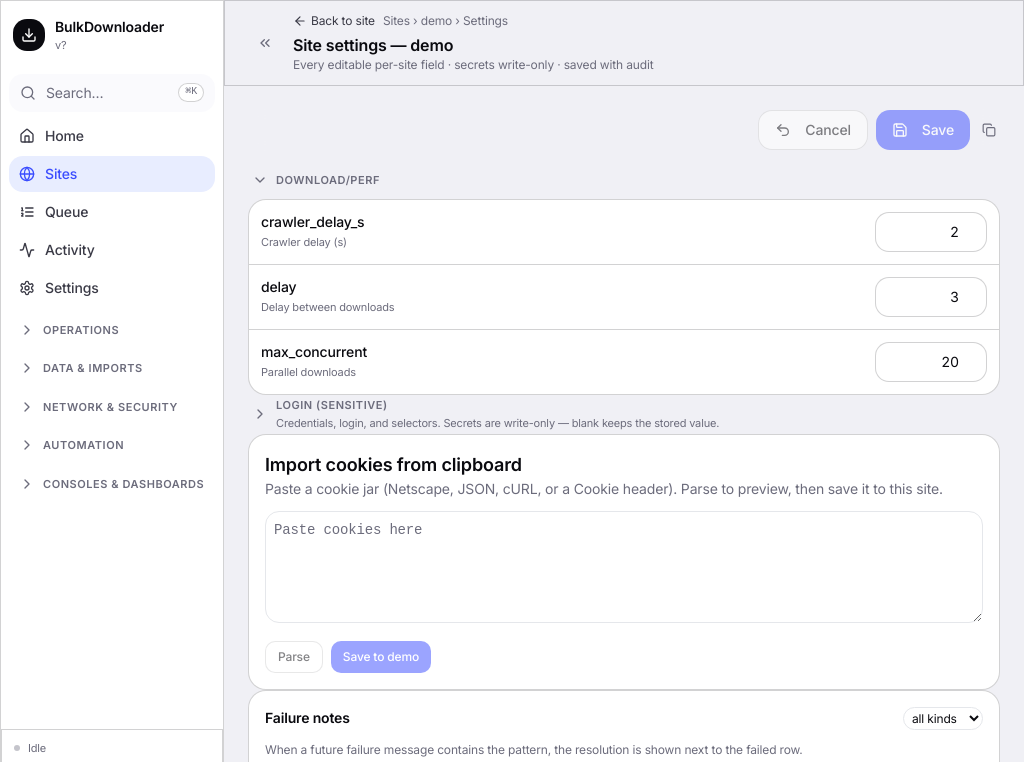
Test: SiteSettings keeps edits typed during a save (dsf F3) › control: a cleared (blank, never sent) password box does not outlive the save
Step 1. Click the button "login (sensitive)" → x=624, y=414, box [248,394,1000,434]
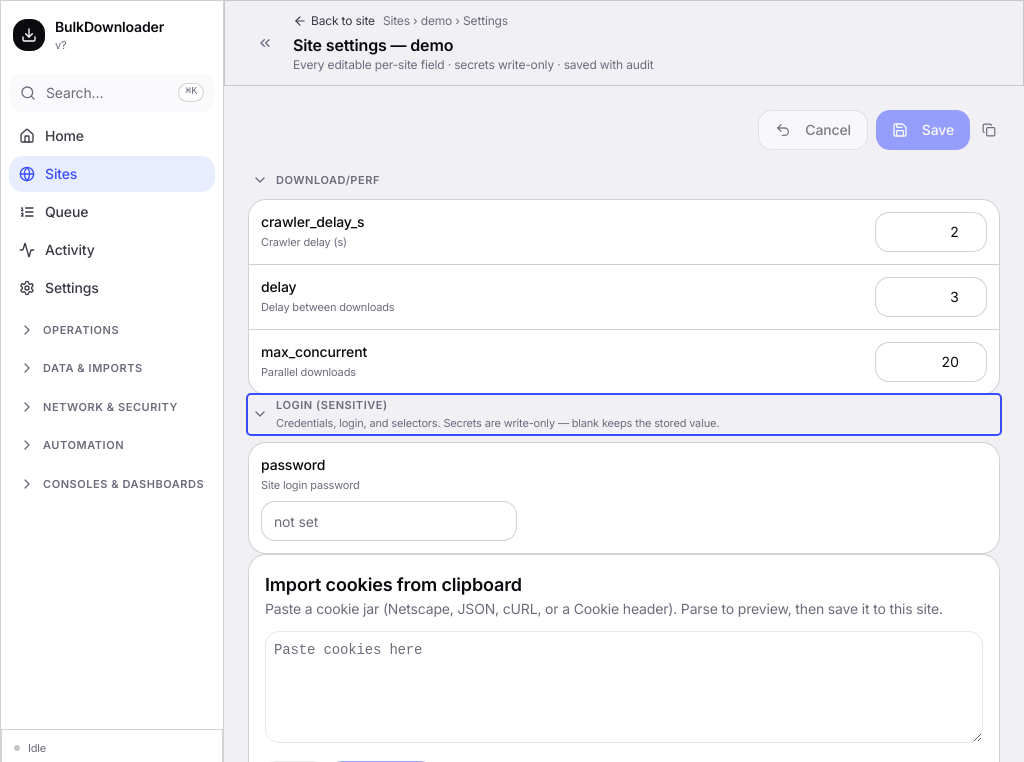
Step 2. Type "x" into the password field named "password" → x=389, y=521, box [261,501,517,541]
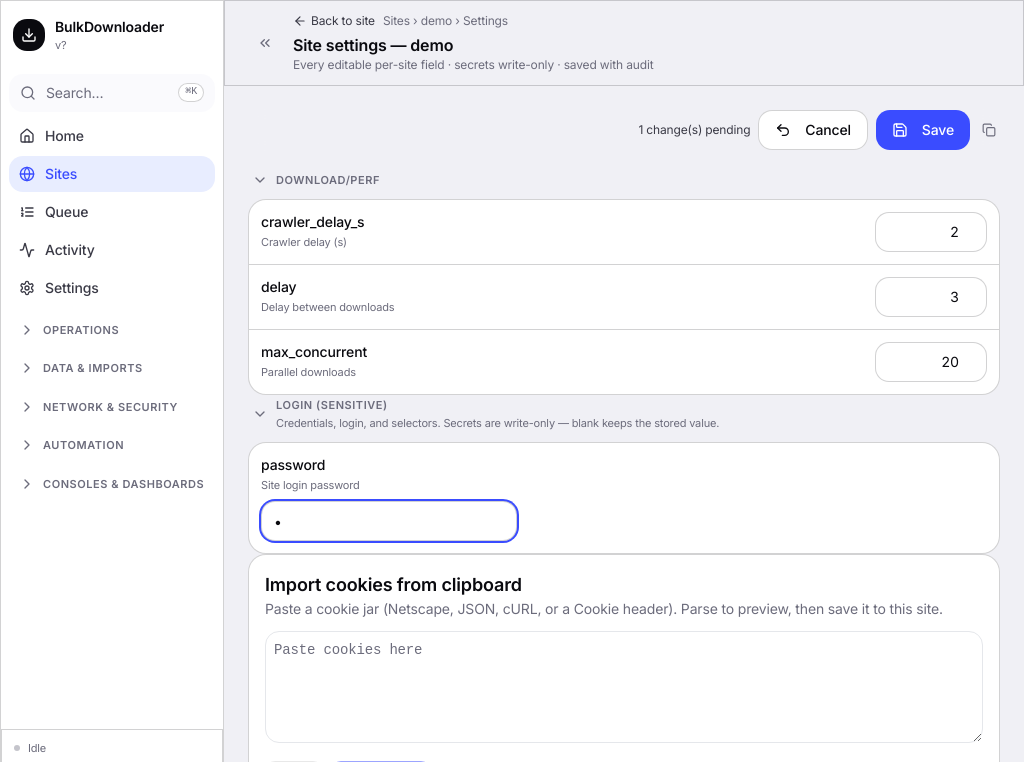
Step 3. Clear the password field named "password" → x=389, y=521, box [261,501,517,541]
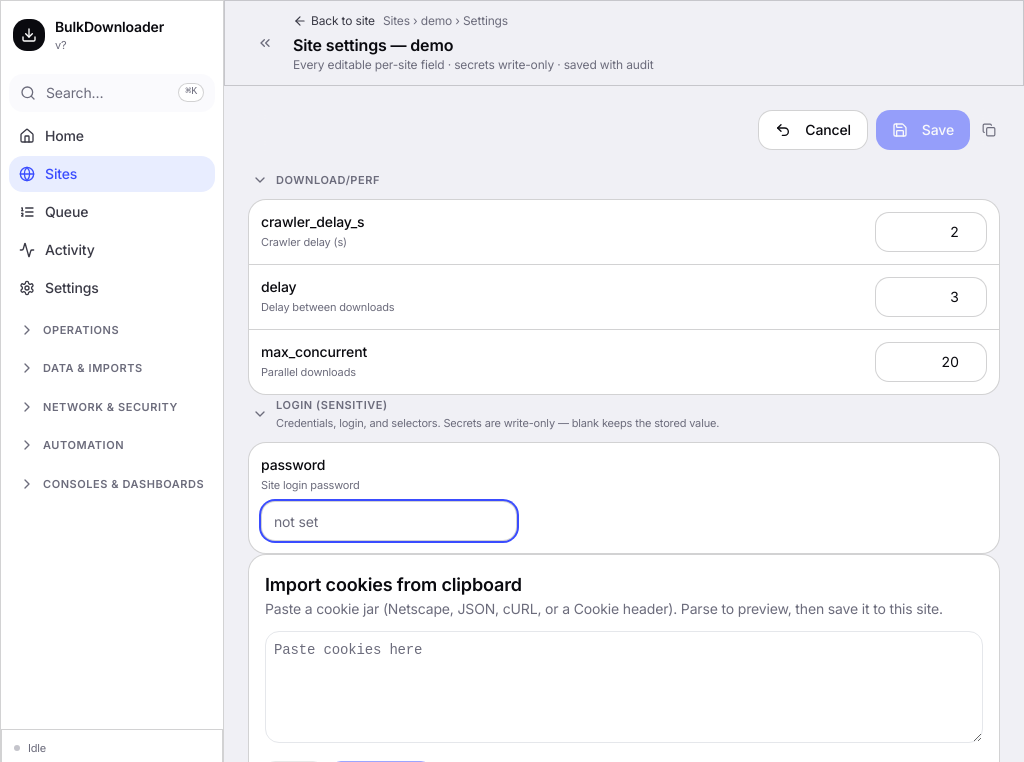
Step 4. Replace the text in the number field showing "3" in the row of "Delay between downloads" with "5" → x=931, y=296, box [875,276,987,316]
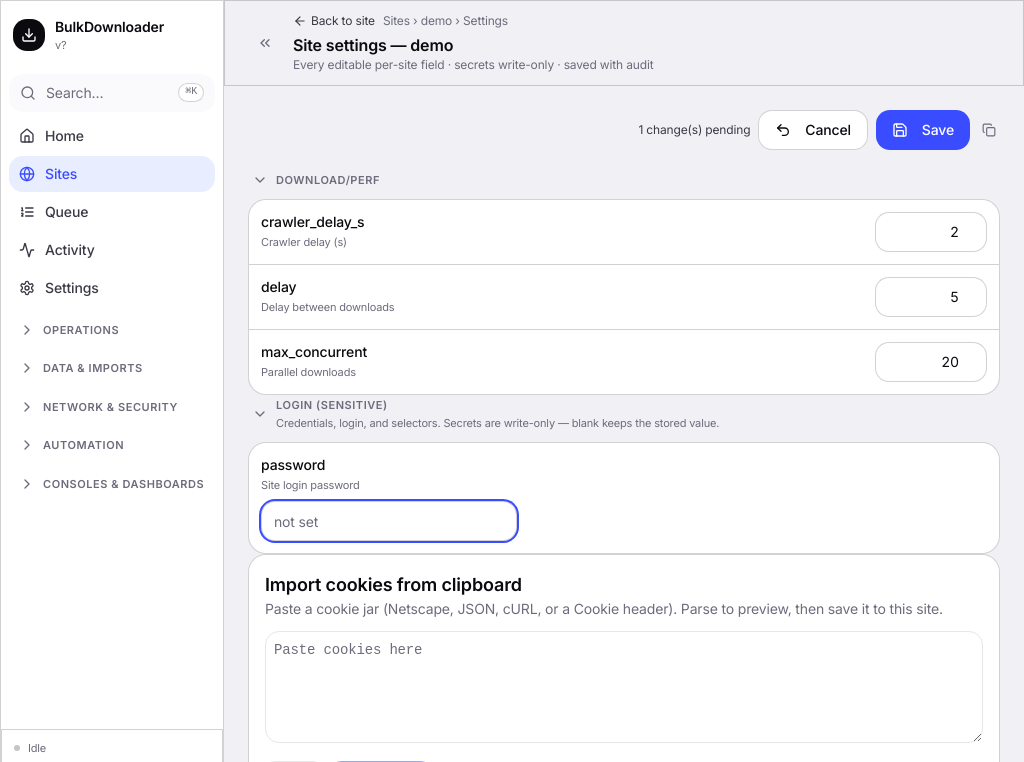
Step 5. Click the button "Save" → x=923, y=130, box [876,110,970,150]
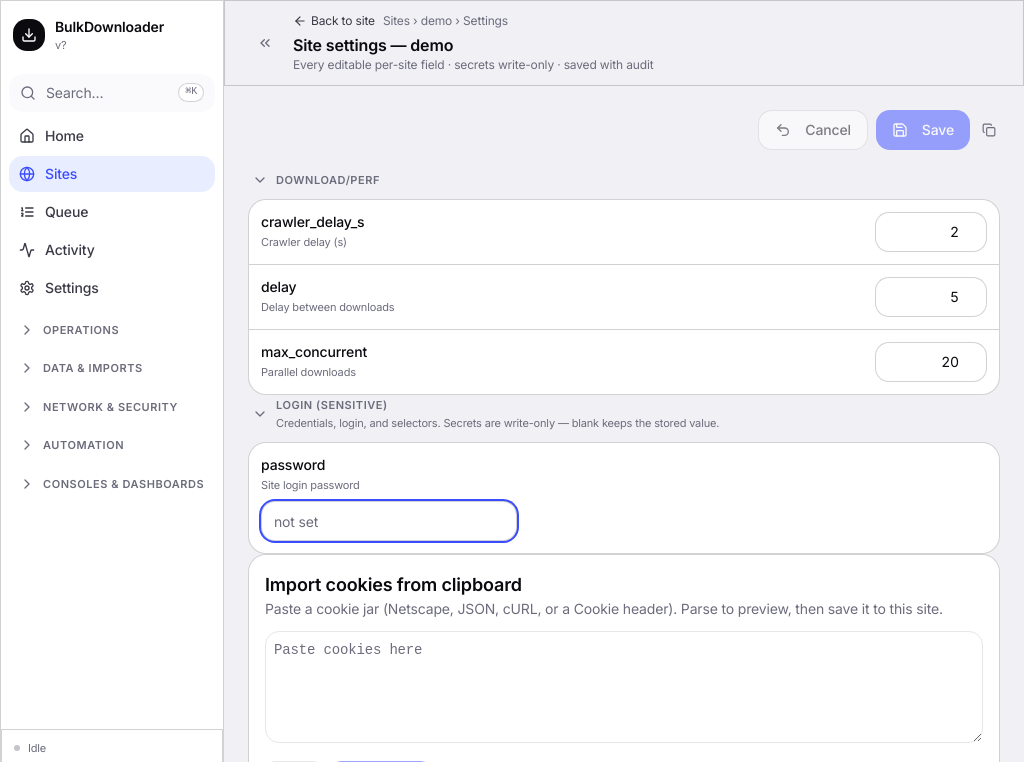
Expected: the button "Cancel" is disabled, [758,110,868,150]
